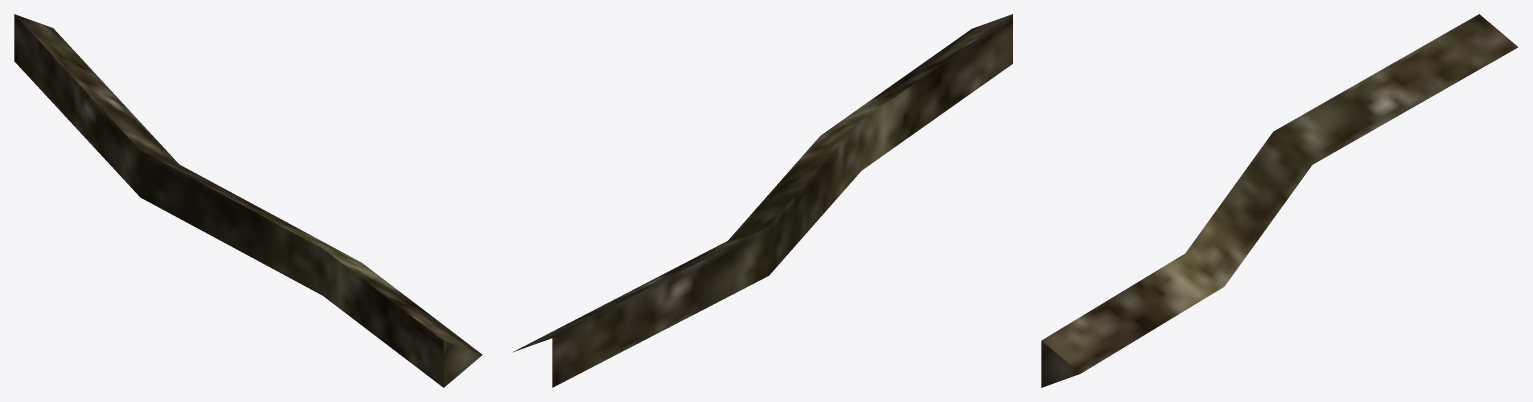
3 views of the same model, side by side, from view 1: azimuth 30°, elevation 25°; view 2: azimuth 150°, elevation 25°; view 3: azimuth 330°, elevation 25° (orthographic). The views are drawn at different scales.
Visible parts, largest first — view 1: model_Object20; view 2: model_Object20; view 3: model_Object20.
Part boxes in pixels (left/top/right/bottom): model_Object20: left=14, top=14, right=482, bottom=387; model_Object20: left=512, top=14, right=1012, bottom=387; model_Object20: left=1041, top=14, right=1518, bottom=387.
Size of the model in its own units: 0.1684 by 0.1184 by 1.46.
Materials: 1 (1 with a texture image).
